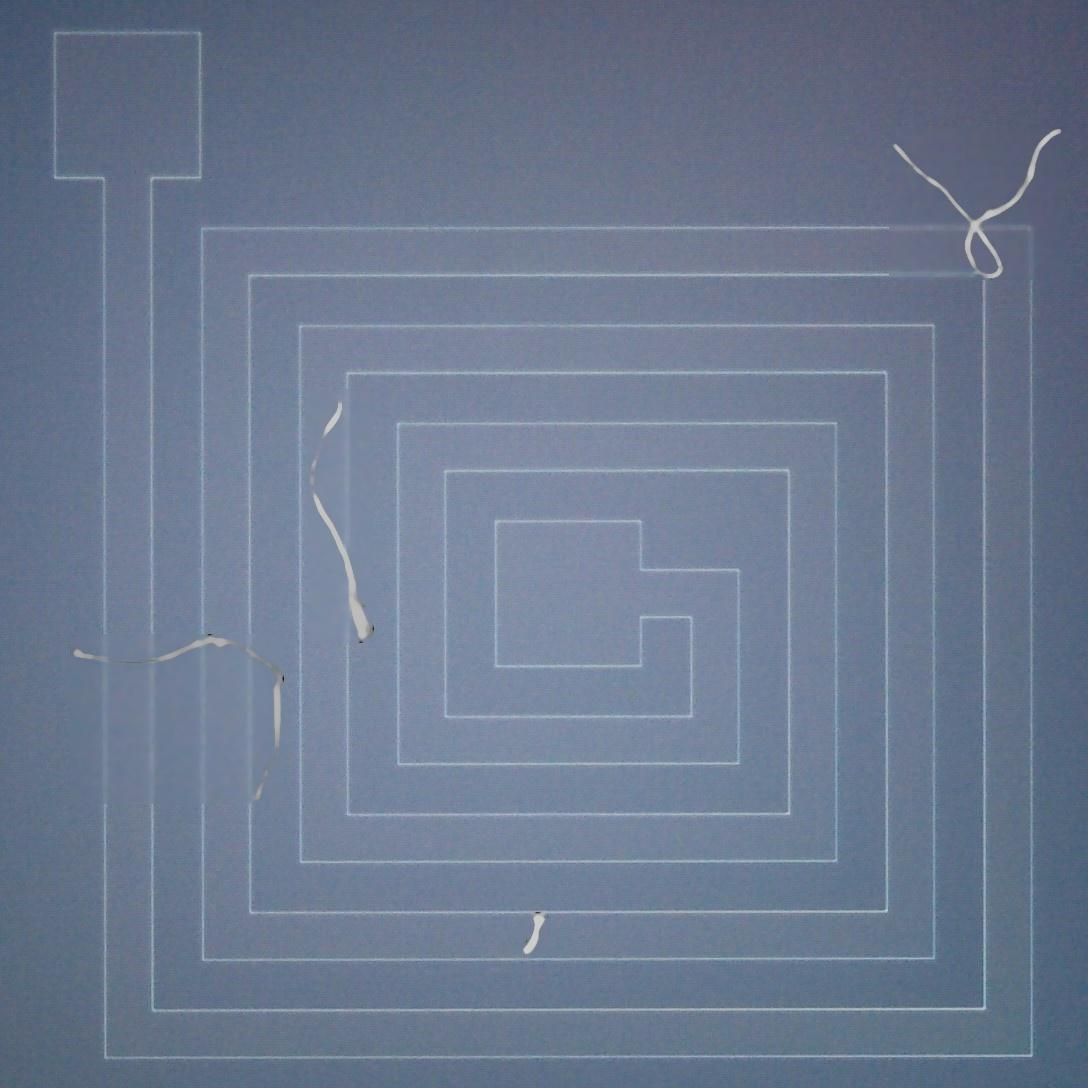foreign: (61, 616, 298, 812), (889, 123, 1066, 279), (304, 394, 390, 644), (516, 903, 554, 962)
